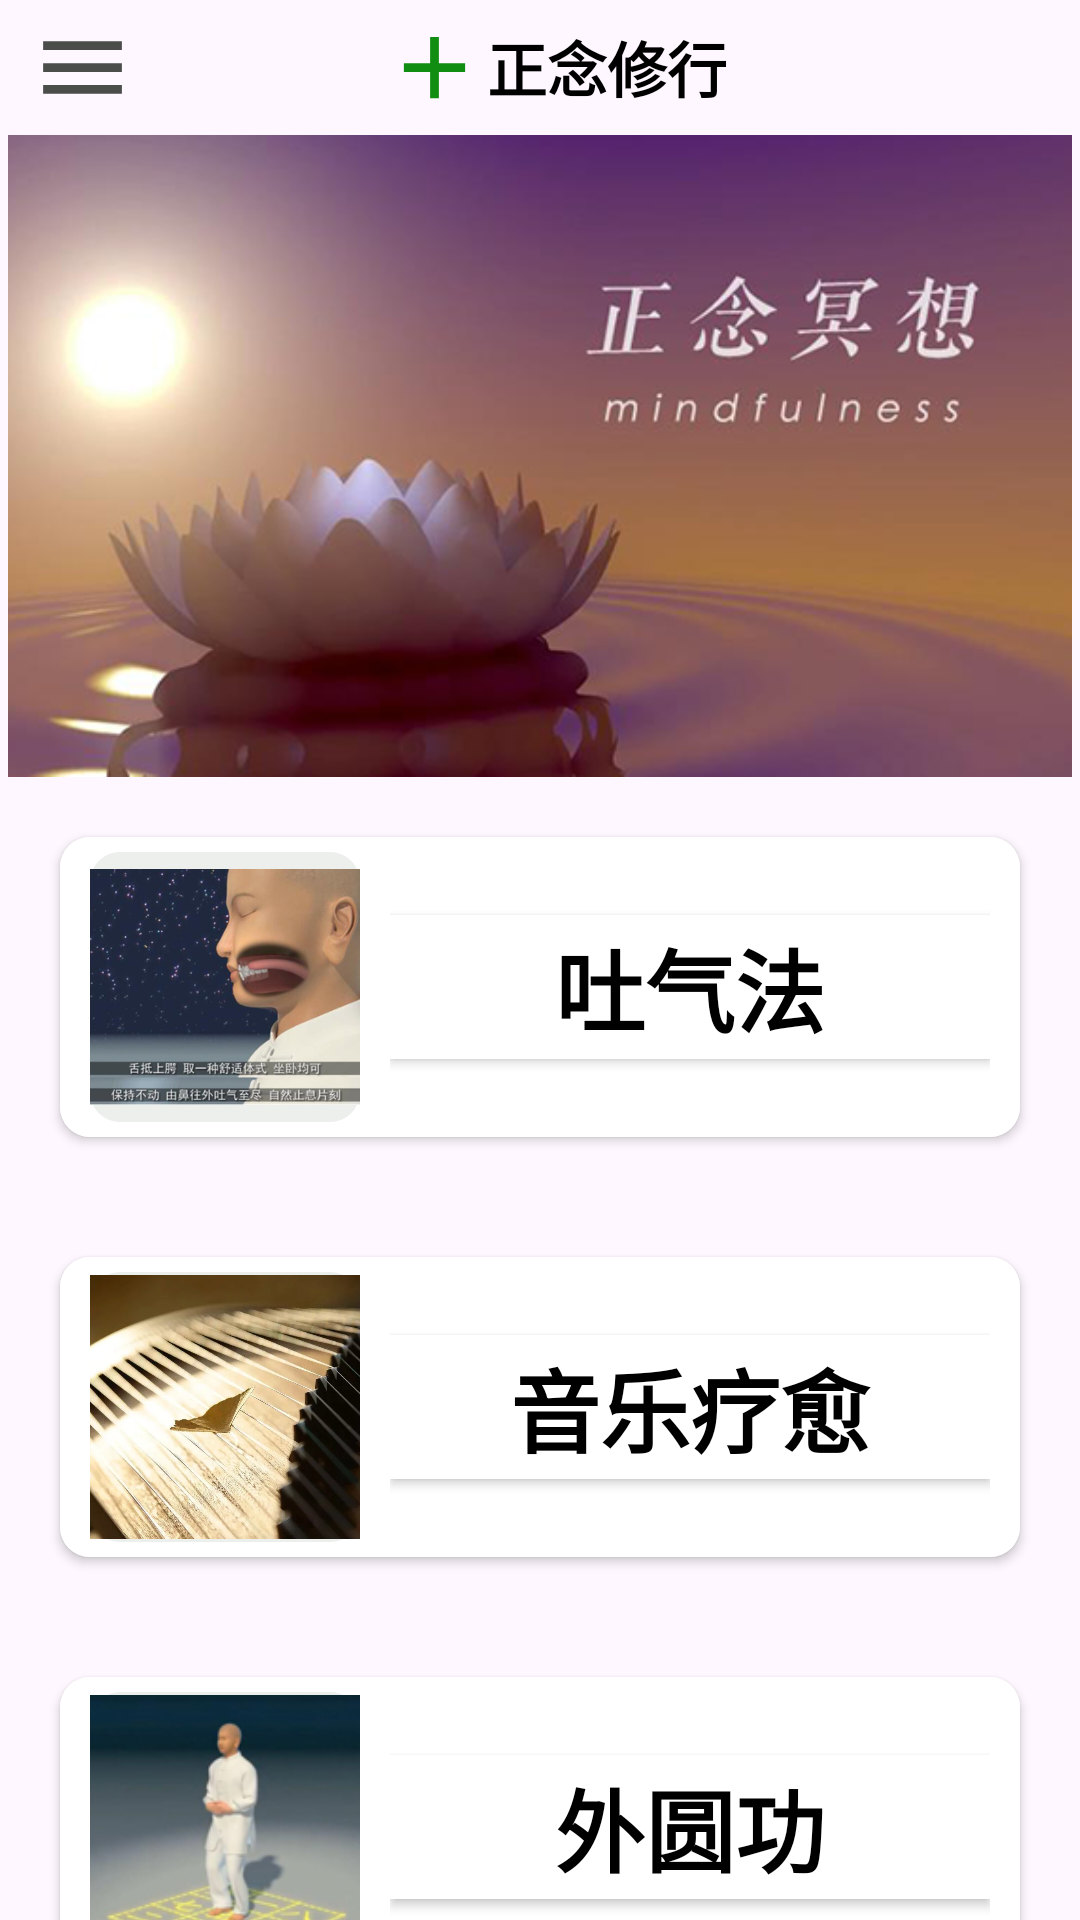

Named icons in this screenshot (1080px×1920px) and their centers, [x,y]:
add: [434,68]
menu: [82,67]
